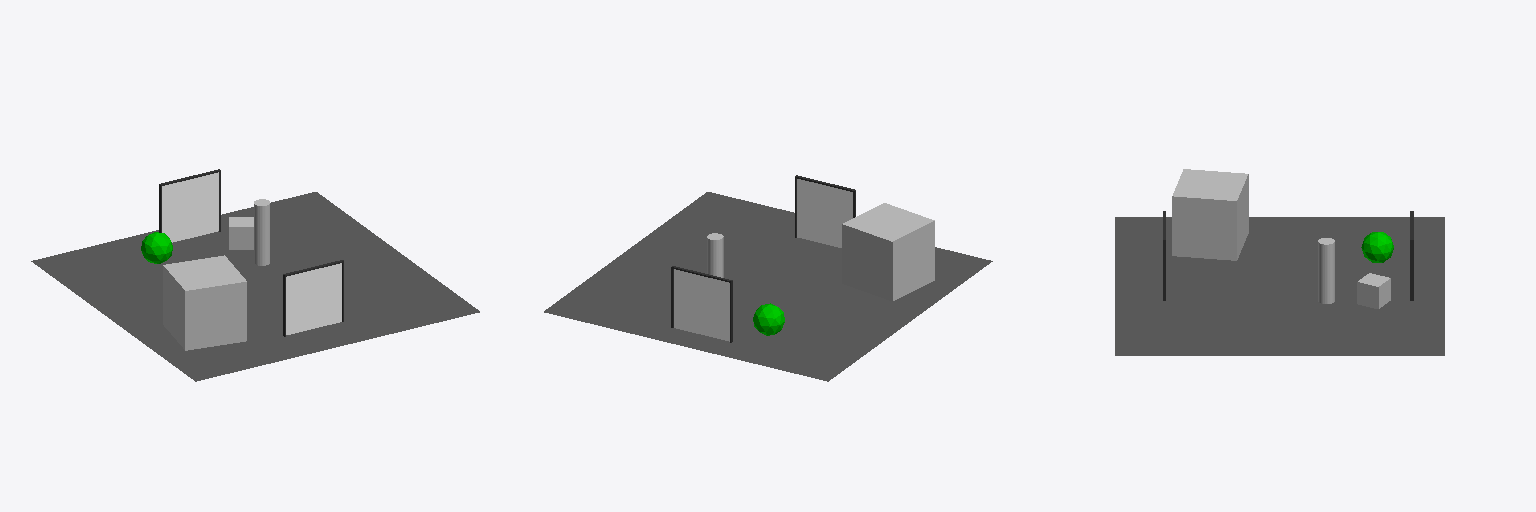
3 views of the same model, side by side, from view 1: azimuth 30°, elevation 25°; view 2: azimuth 150°, elevation 25°; view 3: azimuth 270°, elevation 25° (orthographic).
Parts seen in each view (by area): view 1: Floor, Gold_Cube.002, Plane.001, Plane.004, Pillar, Gold_Cube.001, Emerald; view 2: Floor, Gold_Cube.002, Plane.004, Plane.001, Emerald, Pillar, Plane.003; view 3: Floor, Gold_Cube.002, Pillar, Gold_Cube.001, Emerald.
Part boxes in pixels (x1,y1,x2,y2): Floor: (31,192,479,381); Gold_Cube.002: (163,255,246,350); Plane.001: (286,263,341,334); Plane.004: (162,172,218,242); Pillar: (254,199,269,265); Gold_Cube.001: (229,217,253,249); Emerald: (141,232,172,263); Floor: (544,192,992,381); Gold_Cube.002: (842,203,934,301); Plane.004: (674,269,729,341); Plane.001: (797,179,852,247); Emerald: (753,303,784,335); Pillar: (707,233,723,277); Plane.003: (671,266,732,342); Floor: (1115,217,1444,355); Gold_Cube.002: (1172,169,1248,260); Pillar: (1318,238,1334,303); Gold_Cube.001: (1357,273,1390,308); Emerald: (1361,232,1393,262).
Size of the model in its own units: 20 by 4.1 by 20.